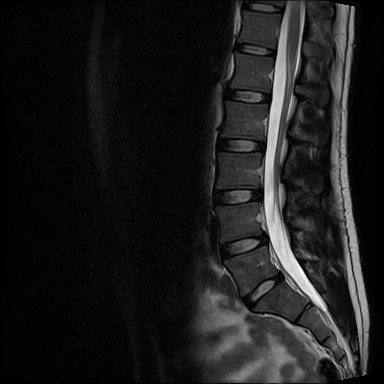Normal IVD: (212, 222, 271, 266), (236, 267, 286, 311), (208, 180, 264, 207), (207, 136, 269, 156), (220, 83, 273, 106), (226, 39, 277, 59), (241, 1, 284, 14)
